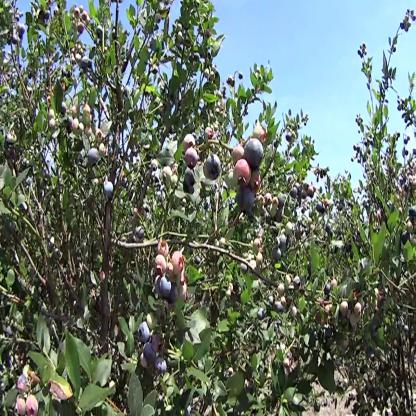intermediate: (238, 188, 255, 213), (234, 163, 250, 186), (185, 149, 201, 172), (175, 246, 187, 275), (157, 235, 172, 258), (250, 169, 264, 191), (154, 254, 168, 276), (72, 7, 91, 23), (253, 125, 268, 142), (71, 117, 81, 141), (185, 134, 197, 150), (226, 169, 236, 188), (355, 301, 363, 322), (265, 191, 273, 209)
mature: (204, 155, 224, 185), (247, 136, 264, 168), (301, 182, 318, 204), (184, 171, 198, 193), (88, 147, 101, 170), (144, 345, 155, 368), (104, 180, 117, 199), (161, 279, 172, 301), (155, 358, 167, 375), (140, 323, 150, 343), (154, 277, 163, 296), (279, 192, 288, 211), (325, 225, 337, 237), (280, 231, 288, 249), (240, 260, 249, 275), (294, 275, 303, 289), (318, 202, 327, 215), (61, 101, 70, 113), (324, 281, 331, 296), (19, 24, 26, 38), (275, 250, 283, 262), (292, 186, 298, 200)
young: (48, 107, 56, 132), (149, 314, 159, 333), (254, 238, 262, 253), (285, 273, 292, 289), (286, 219, 293, 235), (99, 144, 107, 157), (94, 129, 104, 139), (278, 282, 284, 298)
